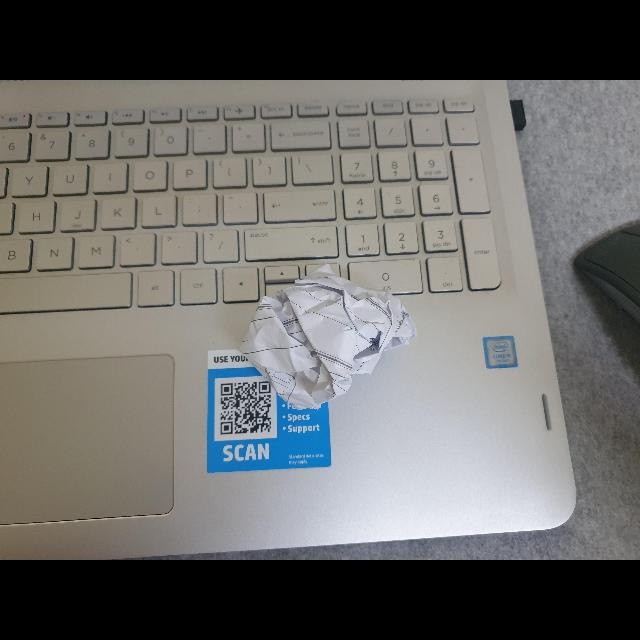scrap_paper: (234, 260, 420, 422)
